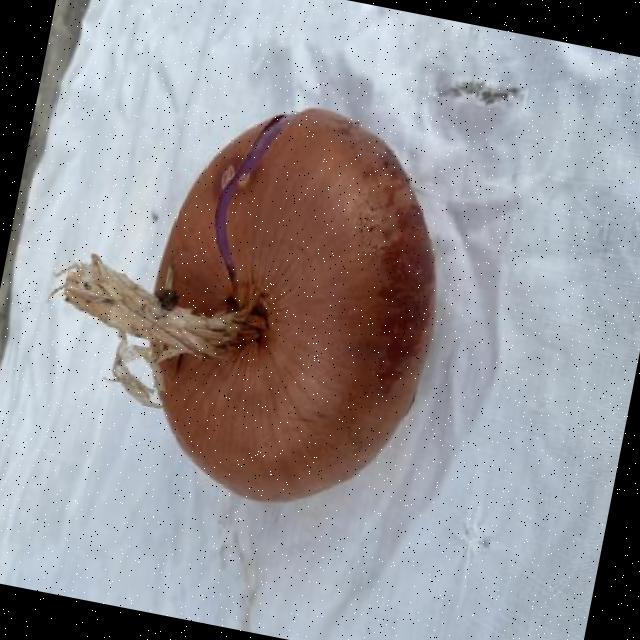Onion: (53, 106, 434, 501)
